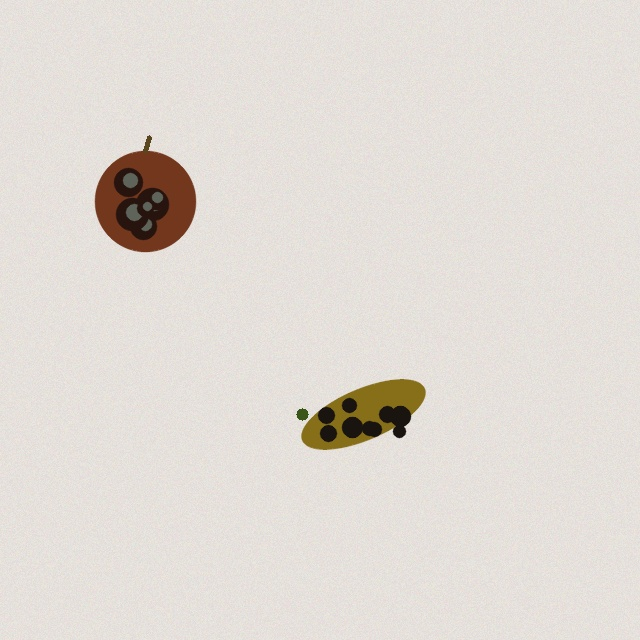Rotten apple: (95, 137, 195, 251)
Rotten banana: (294, 383, 432, 445)
